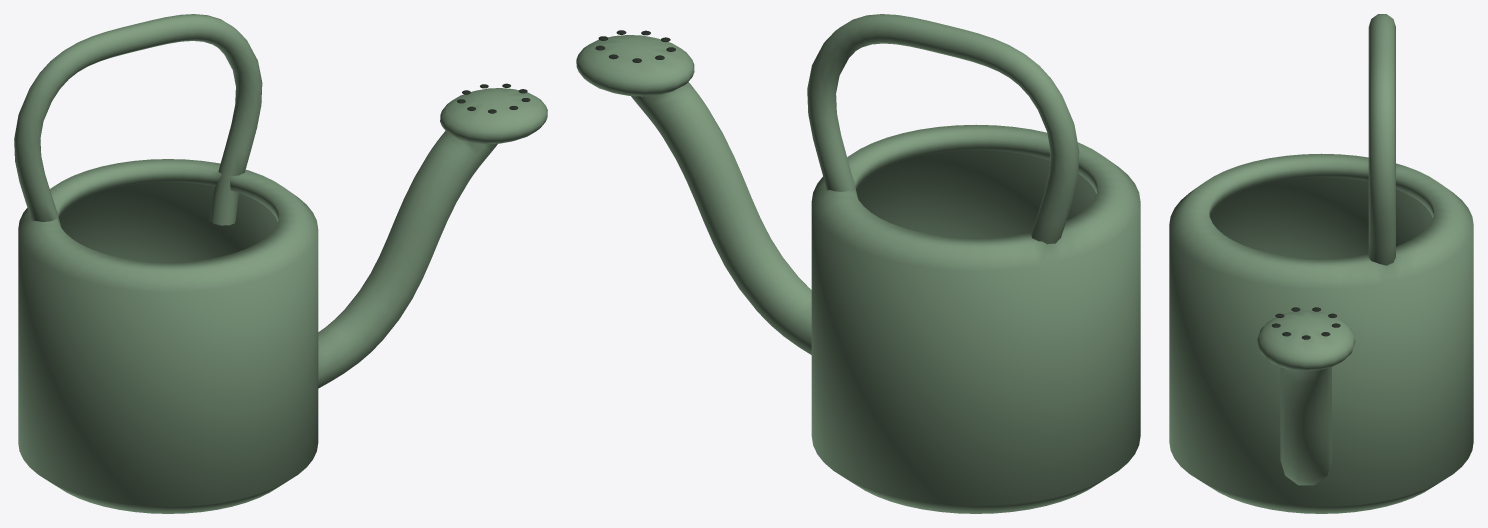
Rendered from wateringcan.glb.
3 renders of one model, left to right at view 1: azimuth 30°, elevation 25°; view 2: azimuth 150°, elevation 25°; view 3: azimuth 270°, elevation 25°, orthographic. The views are drawn at different scales.
Visible parts, largest first — view 1: Atelier_Wateringcan; view 2: Atelier_Wateringcan; view 3: Atelier_Wateringcan.
Part boxes in pixels (x1,y1,x2,y2): Atelier_Wateringcan: (14,14,547,513); Atelier_Wateringcan: (576,14,1140,513); Atelier_Wateringcan: (1169,14,1473,513).
Size of the model in its own units: 0.765 by 0.6071 by 0.4.
